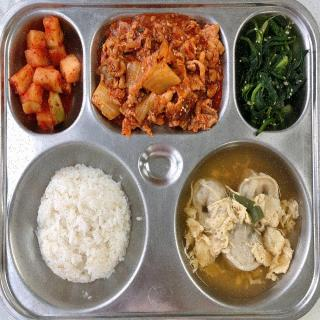Nasi: (37, 164, 131, 283)
